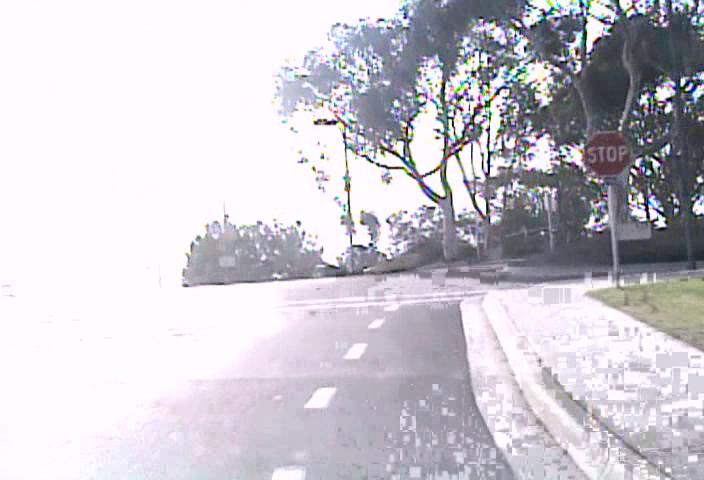stop: (583, 130, 631, 176)
